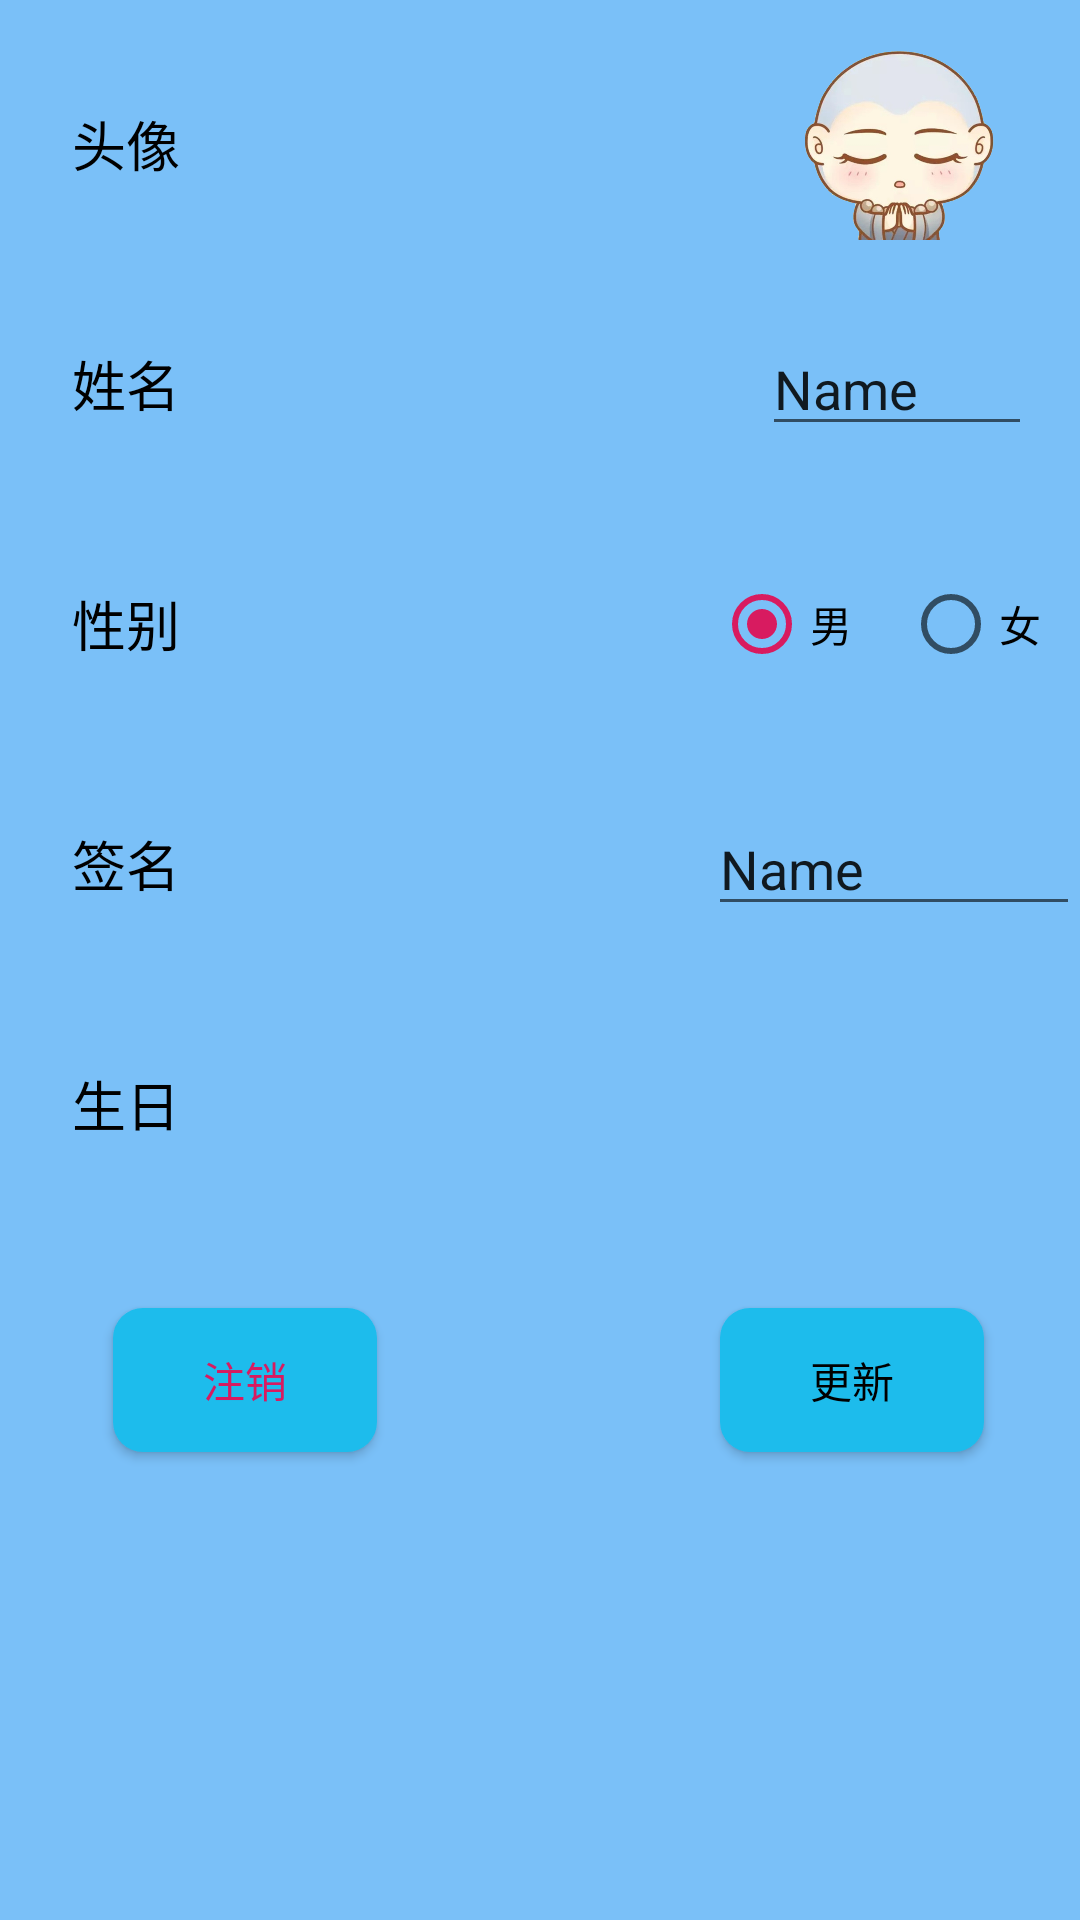

Screen size 1080×1920. Icon name, then its center in pixels as [x,y]:
man: [899,145]
